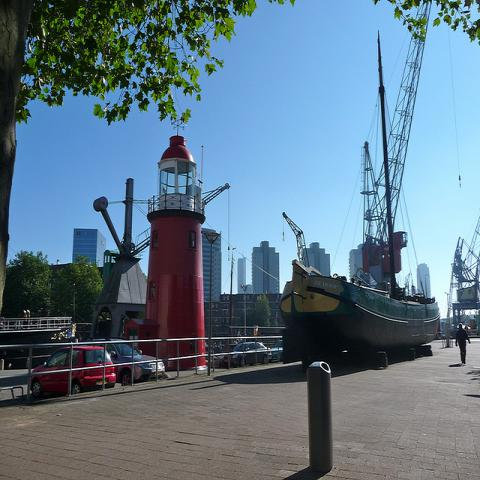car: (29, 345, 116, 397), (80, 336, 165, 387), (223, 342, 272, 367), (270, 340, 283, 362), (205, 356, 224, 368)
